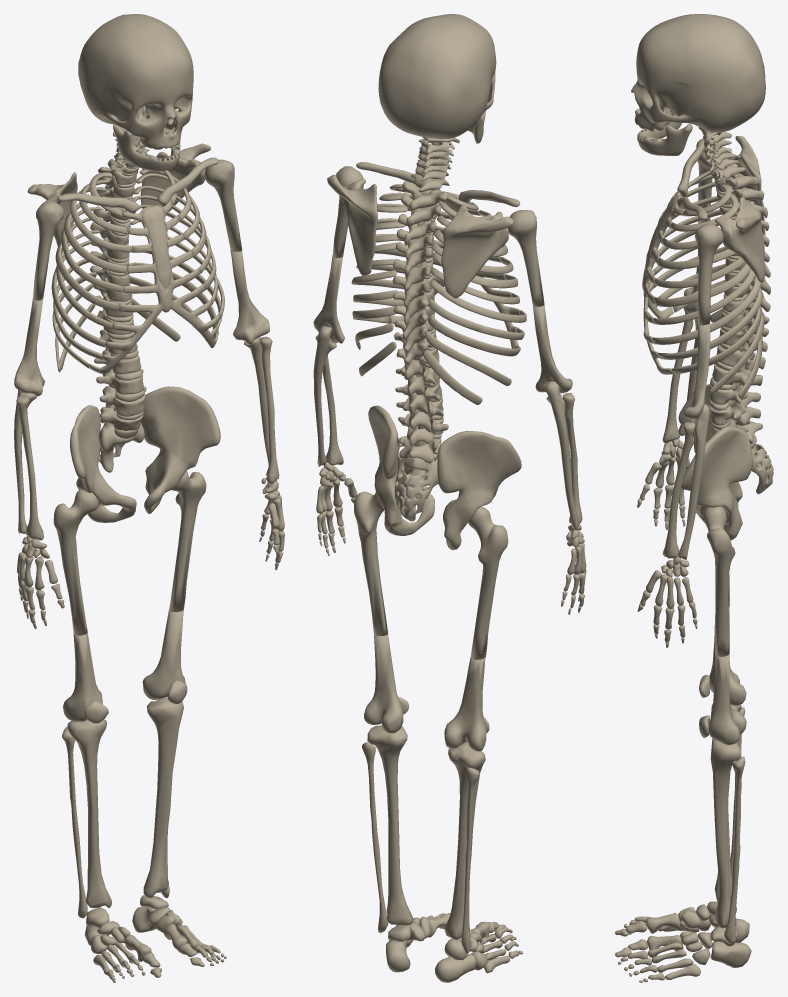
Rendered from pediatric_child_10y_male.skeletal.LOD0.glb.
The picture shows the model from 3 angles, left to right: view 1: azimuth 30°, elevation 25°; view 2: azimuth 150°, elevation 25°; view 3: azimuth 270°, elevation 25°; orthographic projection.
Visible parts, largest first — view 1: PEDIATRIC.CHILD_10Y.MALE.SKELETAL.CRANIUM_CORTICAL, PEDIATRIC.CHILD_10Y.MALE.SKELETAL.RIBS_CORTICAL, PEDIATRIC.CHILD_10Y.MALE.SKELETAL.PELVIS_CORTICAL, PEDIATRIC.CHILD_10Y.MALE.SKELETAL.TIBIAE_CORTICAL, PEDIATRIC.CHILD_10Y.MALE.SKELETAL.CARTILAGE_TRUNK, PEDIATRIC.CHILD_10Y.MALE.SKELETAL.ANKLES_AND_FOOT_CORTICAL, PEDIATRIC.CHILD_10Y.MALE.SKELETAL.FEMORA_UPPER_CORTICAL, PEDIATRIC.CHILD_10Y.MALE.SKELETAL.FEMORA_LOWER_CORTICAL, PEDIATRIC.CHILD_10Y.MALE.SKELETAL.WRISTS_AND_HAND_BONES_CORT, PEDIATRIC.CHILD_10Y.MALE.SKELETAL.THORACIC_SPINE_CORTICAL, PEDIATRIC.CHILD_10Y.MALE.SKELETAL.HUMERI_LOWER_CORTICAL, PEDIATRIC.CHILD_10Y.MALE.SKELETAL.HUMERI_UPPER_CORTICAL (+10 smaller); view 2: PEDIATRIC.CHILD_10Y.MALE.SKELETAL.CRANIUM_CORTICAL, PEDIATRIC.CHILD_10Y.MALE.SKELETAL.RIBS_CORTICAL, PEDIATRIC.CHILD_10Y.MALE.SKELETAL.PELVIS_CORTICAL, PEDIATRIC.CHILD_10Y.MALE.SKELETAL.SCAPULAE_CORTICAL, PEDIATRIC.CHILD_10Y.MALE.SKELETAL.THORACIC_SPINE_CORTICAL, PEDIATRIC.CHILD_10Y.MALE.SKELETAL.TIBIAE_CORTICAL, PEDIATRIC.CHILD_10Y.MALE.SKELETAL.FEMORA_UPPER_CORTICAL, PEDIATRIC.CHILD_10Y.MALE.SKELETAL.FEMORA_LOWER_CORTICAL, PEDIATRIC.CHILD_10Y.MALE.SKELETAL.ANKLES_AND_FOOT_CORTICAL, PEDIATRIC.CHILD_10Y.MALE.SKELETAL.LUMBAR_SPINE_CORTICAL, PEDIATRIC.CHILD_10Y.MALE.SKELETAL.WRISTS_AND_HAND_BONES_CORT, PEDIATRIC.CHILD_10Y.MALE.SKELETAL.ULNAE_CORTICAL (+8 smaller); view 3: PEDIATRIC.CHILD_10Y.MALE.SKELETAL.CRANIUM_CORTICAL, PEDIATRIC.CHILD_10Y.MALE.SKELETAL.RIBS_CORTICAL, PEDIATRIC.CHILD_10Y.MALE.SKELETAL.ANKLES_AND_FOOT_CORTICAL, PEDIATRIC.CHILD_10Y.MALE.SKELETAL.PELVIS_CORTICAL, PEDIATRIC.CHILD_10Y.MALE.SKELETAL.WRISTS_AND_HAND_BONES_CORT, PEDIATRIC.CHILD_10Y.MALE.SKELETAL.TIBIAE_CORTICAL, PEDIATRIC.CHILD_10Y.MALE.SKELETAL.SCAPULAE_CORTICAL, PEDIATRIC.CHILD_10Y.MALE.SKELETAL.LUMBAR_SPINE_CORTICAL, PEDIATRIC.CHILD_10Y.MALE.SKELETAL.THORACIC_SPINE_CORTICAL, PEDIATRIC.CHILD_10Y.MALE.SKELETAL.FEMORA_LOWER_CORTICAL, PEDIATRIC.CHILD_10Y.MALE.SKELETAL.CARTILAGE_TRUNK, PEDIATRIC.CHILD_10Y.MALE.SKELETAL.FEMORA_UPPER_CORTICAL (+10 smaller).
Boxes of the visible parts, left/top/right/bottom form: PEDIATRIC.CHILD_10Y.MALE.SKELETAL.CRANIUM_CORTICAL: left=78, top=14, right=193, bottom=149; PEDIATRIC.CHILD_10Y.MALE.SKELETAL.RIBS_CORTICAL: left=51, top=169, right=224, bottom=372; PEDIATRIC.CHILD_10Y.MALE.SKELETAL.PELVIS_CORTICAL: left=70, top=386, right=220, bottom=522; PEDIATRIC.CHILD_10Y.MALE.SKELETAL.TIBIAE_CORTICAL: left=67, top=697, right=183, bottom=908; PEDIATRIC.CHILD_10Y.MALE.SKELETAL.CARTILAGE_TRUNK: left=88, top=138, right=220, bottom=438; PEDIATRIC.CHILD_10Y.MALE.SKELETAL.ANKLES_AND_FOOT_CORTICAL: left=84, top=895, right=226, bottom=982; PEDIATRIC.CHILD_10Y.MALE.SKELETAL.FEMORA_UPPER_CORTICAL: left=53, top=471, right=206, bottom=635; PEDIATRIC.CHILD_10Y.MALE.SKELETAL.FEMORA_LOWER_CORTICAL: left=63, top=610, right=185, bottom=721; PEDIATRIC.CHILD_10Y.MALE.SKELETAL.WRISTS_AND_HAND_BONES_CORT: left=17, top=477, right=284, bottom=629; PEDIATRIC.CHILD_10Y.MALE.SKELETAL.THORACIC_SPINE_CORTICAL: left=90, top=159, right=137, bottom=334; PEDIATRIC.CHILD_10Y.MALE.SKELETAL.HUMERI_LOWER_CORTICAL: left=14, top=250, right=269, bottom=396; PEDIATRIC.CHILD_10Y.MALE.SKELETAL.HUMERI_UPPER_CORTICAL: left=33, top=159, right=242, bottom=300; PEDIATRIC.CHILD_10Y.MALE.SKELETAL.CRANIUM_CORTICAL: left=378, top=14, right=496, bottom=139; PEDIATRIC.CHILD_10Y.MALE.SKELETAL.RIBS_CORTICAL: left=351, top=184, right=526, bottom=404; PEDIATRIC.CHILD_10Y.MALE.SKELETAL.PELVIS_CORTICAL: left=368, top=405, right=521, bottom=550; PEDIATRIC.CHILD_10Y.MALE.SKELETAL.SCAPULAE_CORTICAL: left=327, top=174, right=513, bottom=298; PEDIATRIC.CHILD_10Y.MALE.SKELETAL.THORACIC_SPINE_CORTICAL: left=392, top=181, right=448, bottom=379; PEDIATRIC.CHILD_10Y.MALE.SKELETAL.TIBIAE_CORTICAL: left=367, top=725, right=485, bottom=939; PEDIATRIC.CHILD_10Y.MALE.SKELETAL.FEMORA_UPPER_CORTICAL: left=354, top=491, right=508, bottom=659; PEDIATRIC.CHILD_10Y.MALE.SKELETAL.FEMORA_LOWER_CORTICAL: left=364, top=634, right=486, bottom=751; PEDIATRIC.CHILD_10Y.MALE.SKELETAL.ANKLES_AND_FOOT_CORTICAL: left=386, top=913, right=522, bottom=982; PEDIATRIC.CHILD_10Y.MALE.SKELETAL.LUMBAR_SPINE_CORTICAL: left=395, top=365, right=448, bottom=463; PEDIATRIC.CHILD_10Y.MALE.SKELETAL.WRISTS_AND_HAND_BONES_CORT: left=316, top=463, right=586, bottom=614; PEDIATRIC.CHILD_10Y.MALE.SKELETAL.ULNAE_CORTICAL: left=313, top=325, right=579, bottom=529; PEDIATRIC.CHILD_10Y.MALE.SKELETAL.CRANIUM_CORTICAL: left=631, top=14, right=765, bottom=132; PEDIATRIC.CHILD_10Y.MALE.SKELETAL.RIBS_CORTICAL: left=652, top=169, right=764, bottom=398; PEDIATRIC.CHILD_10Y.MALE.SKELETAL.ANKLES_AND_FOOT_CORTICAL: left=615, top=901, right=751, bottom=982; PEDIATRIC.CHILD_10Y.MALE.SKELETAL.PELVIS_CORTICAL: left=678, top=384, right=752, bottom=540; PEDIATRIC.CHILD_10Y.MALE.SKELETAL.WRISTS_AND_HAND_BONES_CORT: left=637, top=438, right=697, bottom=647; PEDIATRIC.CHILD_10Y.MALE.SKELETAL.TIBIAE_CORTICAL: left=710, top=703, right=741, bottom=928; PEDIATRIC.CHILD_10Y.MALE.SKELETAL.SCAPULAE_CORTICAL: left=715, top=136, right=765, bottom=282; PEDIATRIC.CHILD_10Y.MALE.SKELETAL.LUMBAR_SPINE_CORTICAL: left=708, top=343, right=765, bottom=443; PEDIATRIC.CHILD_10Y.MALE.SKELETAL.THORACIC_SPINE_CORTICAL: left=714, top=163, right=770, bottom=351; PEDIATRIC.CHILD_10Y.MALE.SKELETAL.FEMORA_LOWER_CORTICAL: left=708, top=607, right=746, bottom=745; PEDIATRIC.CHILD_10Y.MALE.SKELETAL.CARTILAGE_TRUNK: left=642, top=139, right=742, bottom=429; PEDIATRIC.CHILD_10Y.MALE.SKELETAL.FEMORA_UPPER_CORTICAL: left=703, top=506, right=735, bottom=656.
Bounding box in the file's own units: 0.4006 × 1.38 × 0.2121.
